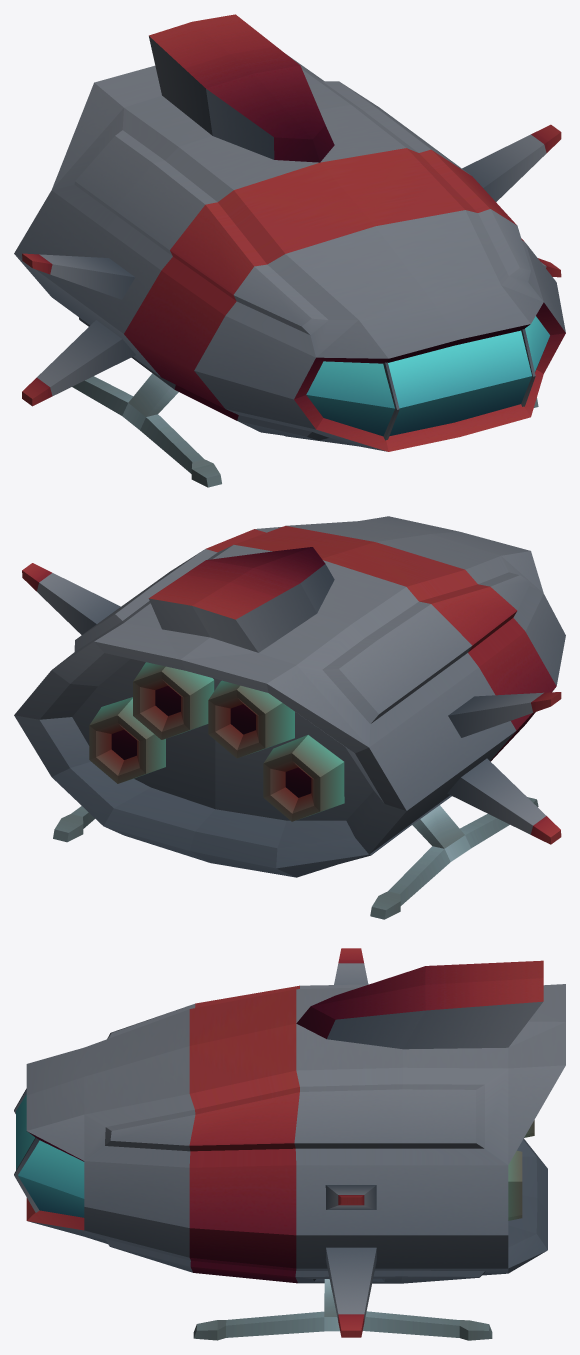
The model's file is Spaceship_D_skin1.FBX.
3 renders of one model, top to bottom at view 1: azimuth 30°, elevation 25°; view 2: azimuth 150°, elevation 25°; view 3: azimuth 270°, elevation 25°, orthographic. The views are drawn at different scales.
Visible parts, largest first — view 1: Ship_D_skin1, wing_D_skin_1 (×2), landing_gear_D_skin1, wing_D_skin_002; view 2: Ship_D_skin1, wing_D_skin_1 (×2), landing_gear_D_skin1 (×2), wing_D_skin_002; view 3: Ship_D_skin1, landing_gear_D_skin1, wing_D_skin_1 (×2), wing_D_skin_002.
Part boxes in pixels (left/top/right/bottom): Ship_D_skin1: left=14, top=14, right=565, bottom=451; wing_D_skin_1 (×2): left=22, top=124, right=561, bottom=406; landing_gear_D_skin1: left=72, top=373, right=221, bottom=487; wing_D_skin_002: left=22, top=253, right=135, bottom=299; Ship_D_skin1: left=14, top=516, right=565, bottom=877; wing_D_skin_1 (×2): left=22, top=563, right=561, bottom=844; landing_gear_D_skin1 (×2): left=53, top=797, right=538, bottom=919; wing_D_skin_002: left=448, top=692, right=561, bottom=737; Ship_D_skin1: left=14, top=960, right=565, bottom=1283; landing_gear_D_skin1: left=193, top=1279, right=492, bottom=1340; wing_D_skin_1 (×2): left=325, top=1185, right=376, bottom=1337; wing_D_skin_002: left=334, top=948, right=368, bottom=984.
Bounding box in the file's own units: 17.81 × 9.43 × 16.68.
